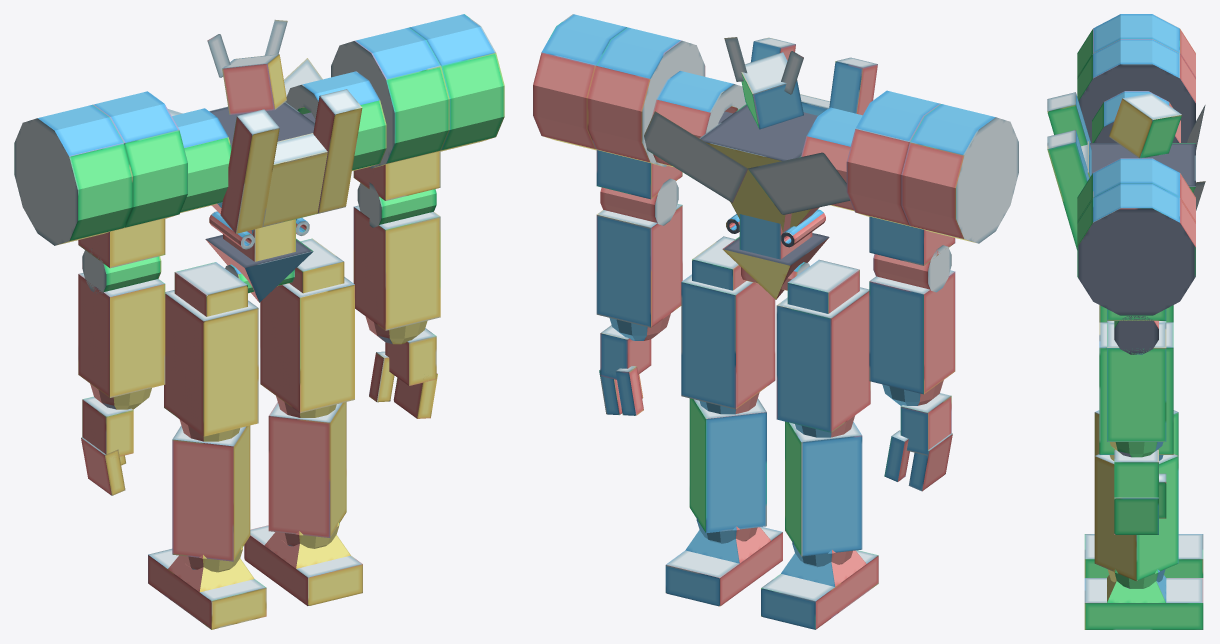
Rendered from player.obj.
3 views of the same model, side by side, from view 1: azimuth 30°, elevation 25°; view 2: azimuth 150°, elevation 25°; view 3: azimuth 270°, elevation 25° (orthographic). The views are drawn at different scales.
Parts seen in each view (by area): view 1: player; view 2: player; view 3: player.
Part boxes in pixels (bbox=[...]): player: bbox=[14, 14, 504, 629]; player: bbox=[533, 14, 1018, 629]; player: bbox=[1047, 14, 1205, 629].
Size of the model in its own units: 62 by 77.16 by 21.36.
Materials: 1 (1 with a texture image).
